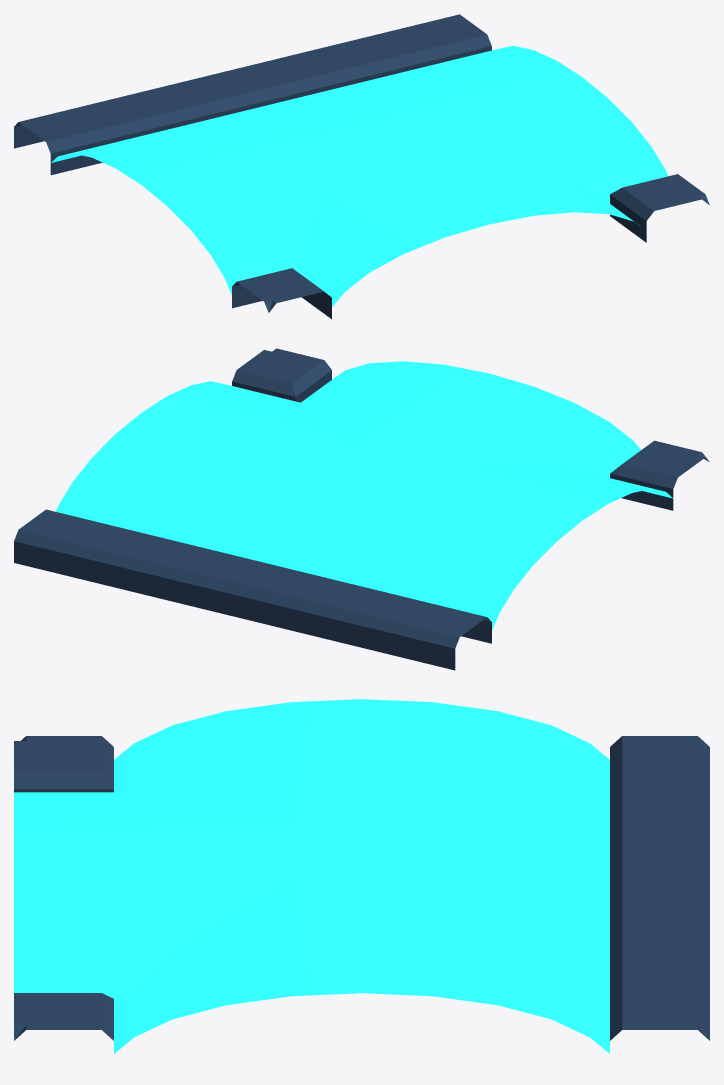
The model's file is Light_Trim_01_SquareShortCrossT.glb.
3 views of the same model, one above another, from view 1: azimuth 30°, elevation 25°; view 2: azimuth 150°, elevation 25°; view 3: azimuth 270°, elevation 25° (orthographic). The views are drawn at different scales.
Visible parts, largest first — view 1: Light_Trim_01_SquareShortCrossT.001; view 2: Light_Trim_01_SquareShortCrossT.001; view 3: Light_Trim_01_SquareShortCrossT.001.
Boxes of the visible parts, box(x1,y1,x2,y2) form: Light_Trim_01_SquareShortCrossT.001: box(14, 14, 709, 319); Light_Trim_01_SquareShortCrossT.001: box(14, 348, 709, 670); Light_Trim_01_SquareShortCrossT.001: box(14, 699, 709, 1053).
Size of the model in its own units: 0.1 by 0.0123 by 0.1.
